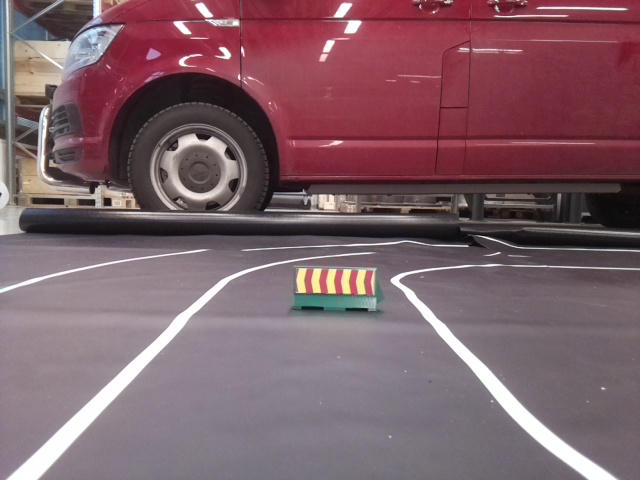ClosedRoadStand: (294, 262, 381, 314)
